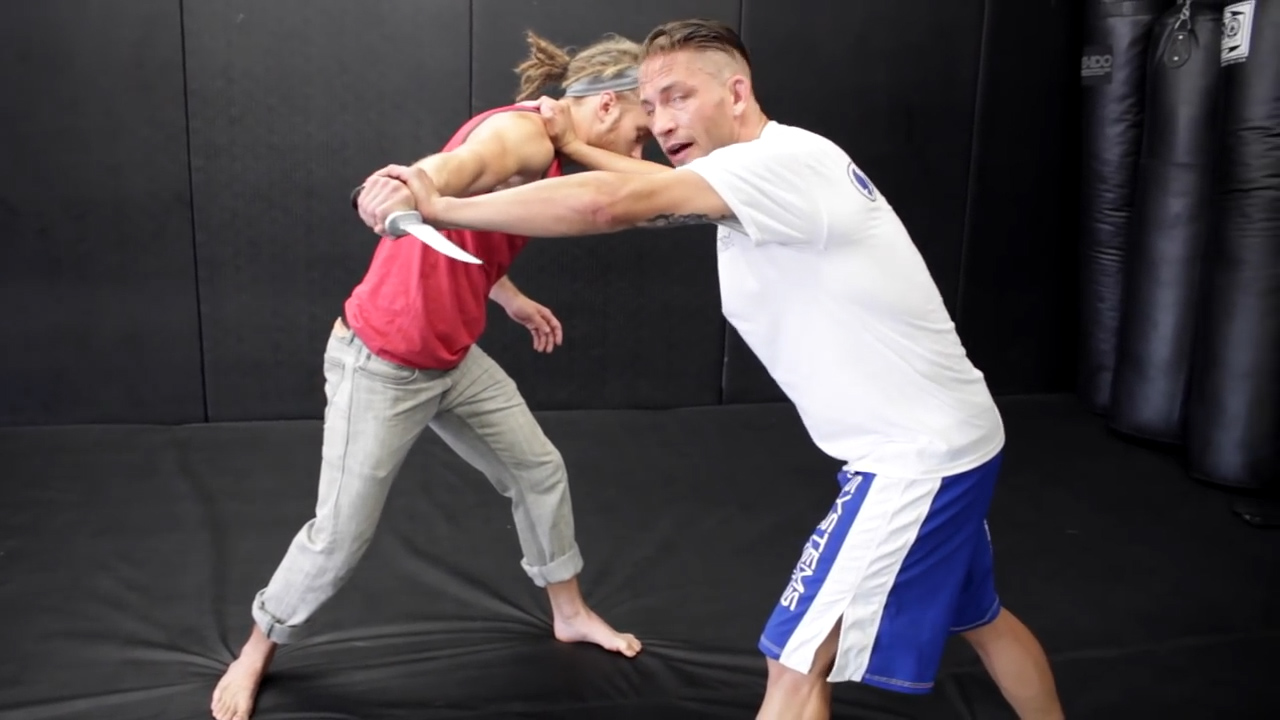knife: (343, 179, 495, 271)
